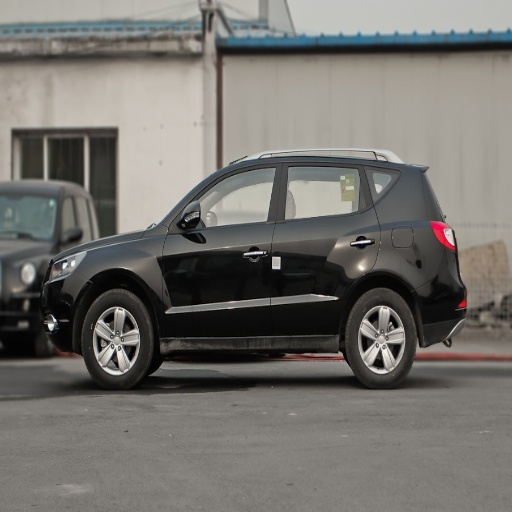back_bumper: (419, 282, 466, 340)
back_glass: (3, 194, 57, 236)
back_left_door: (269, 160, 380, 343)
front_left_door: (162, 160, 281, 346)
